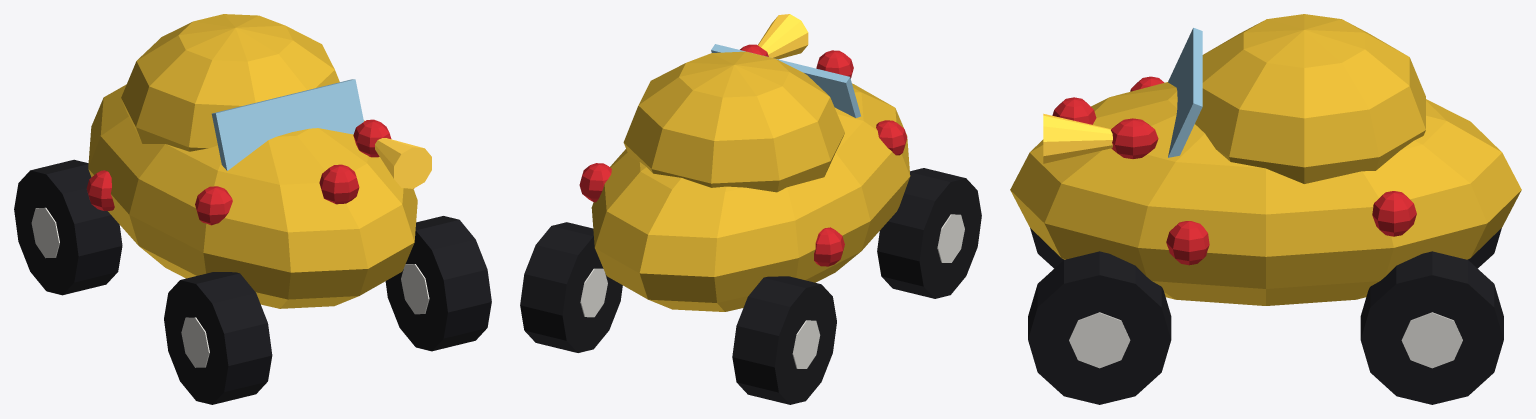
Rendered from clown_car.glb.
3 views of the same model, side by side, from view 1: azimuth 30°, elevation 25°; view 2: azimuth 150°, elevation 25°; view 3: azimuth 270°, elevation 25° (orthographic). The views are drawn at different scales.
Visible parts, largest first — view 1: body_car_yellow, wheels_tire, glass_car_glass, body_dot_red, wheels_white, horn_gold, horn_clown_red; view 2: body_car_yellow, wheels_tire, body_dot_red, wheels_white, glass_car_glass, horn_gold; view 3: body_car_yellow, wheels_tire, wheels_white, body_dot_red, glass_car_glass, horn_gold, horn_clown_red.
Boxes of the visible parts, left/top/right/bottom form: body_car_yellow: left=88, top=14, right=417, bottom=308; wheels_tire: left=14, top=159, right=491, bottom=404; glass_car_glass: left=211, top=79, right=363, bottom=170; body_dot_red: left=86, top=164, right=359, bottom=225; wheels_white: left=31, top=207, right=429, bottom=367; horn_gold: left=375, top=138, right=431, bottom=188; horn_clown_red: left=353, top=119, right=391, bottom=157; body_car_yellow: left=591, top=51, right=910, bottom=311; wheels_tire: left=520, top=168, right=981, bottom=404; body_dot_red: left=579, top=50, right=907, bottom=266; wheels_white: left=580, top=214, right=964, bottom=368; glass_car_glass: left=711, top=44, right=860, bottom=117; horn_gold: left=758, top=14, right=808, bottom=59; body_car_yellow: left=1010, top=14, right=1521, bottom=305; wheels_tire: left=1028, top=228, right=1503, bottom=404; wheels_white: left=1069, top=312, right=1462, bottom=368; body_dot_red: left=1052, top=76, right=1416, bottom=265; glass_car_glass: left=1168, top=27, right=1202, bottom=157; horn_gold: left=1043, top=113, right=1112, bottom=163; horn_clown_red: left=1111, top=118, right=1158, bottom=158.
Bounding box in the file's own units: 1.33 × 1.31 × 2.
